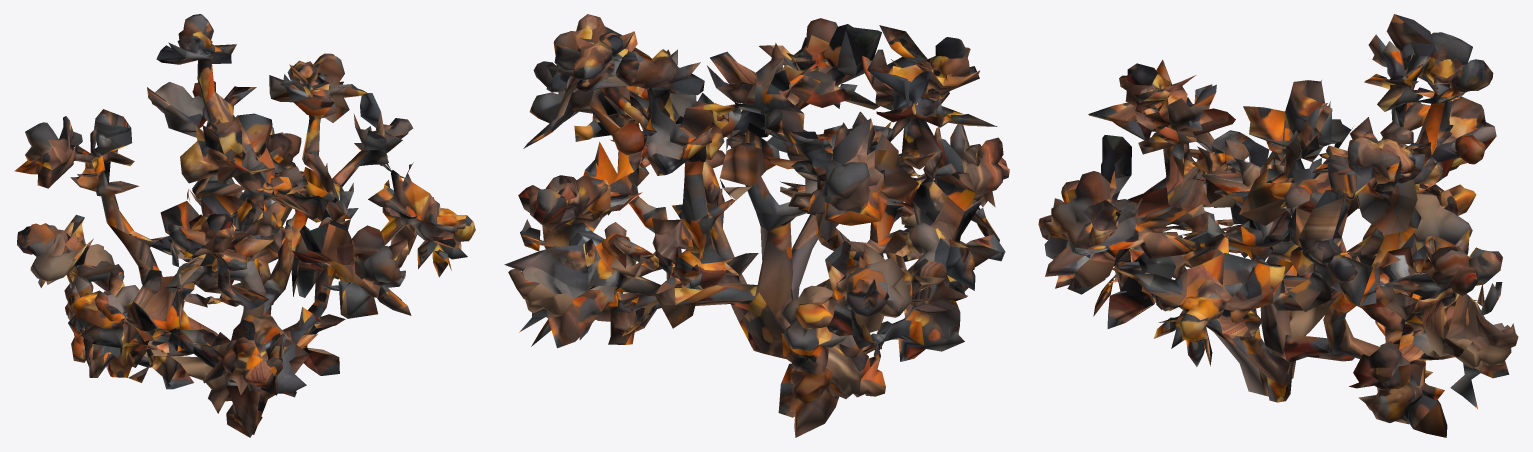
The model's file is BerryBush.fbx.
3 renders of one model, left to right at view 1: azimuth 30°, elevation 25°; view 2: azimuth 150°, elevation 25°; view 3: azimuth 270°, elevation 25°, orthographic. The views are drawn at different scales.
Parts seen in each view (by area): view 1: BerryBush, BerryBush_Berries; view 2: BerryBush, BerryBush_Berries; view 3: BerryBush, BerryBush_Berries.
Part boxes in pixels (box(x1,y1,x2,y2)): BerryBush: box(14, 42, 465, 437); BerryBush_Berries: box(17, 14, 475, 390); BerryBush: box(504, 24, 1005, 437); BerryBush_Berries: box(508, 14, 1009, 403); BerryBush: box(1043, 14, 1509, 437); BerryBush_Berries: box(1038, 32, 1518, 422).
Bounding box in the file's own units: 200 × 163 × 200.
